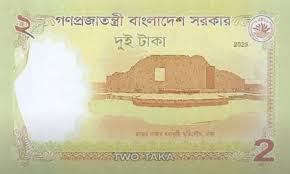2_taka: (15, 13, 277, 162)
